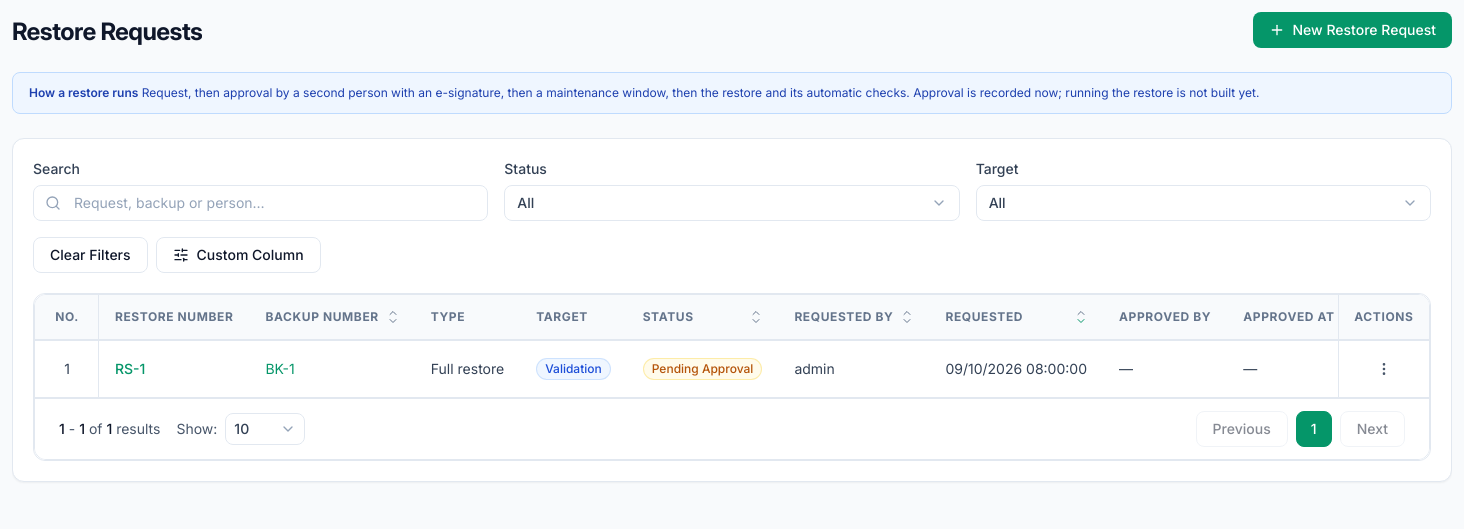
Test: Restore requests list actions › does not offer Approve Request on the person's own request
Click the button named "More actions" at (1383, 368), box [1367,352,1399,384]
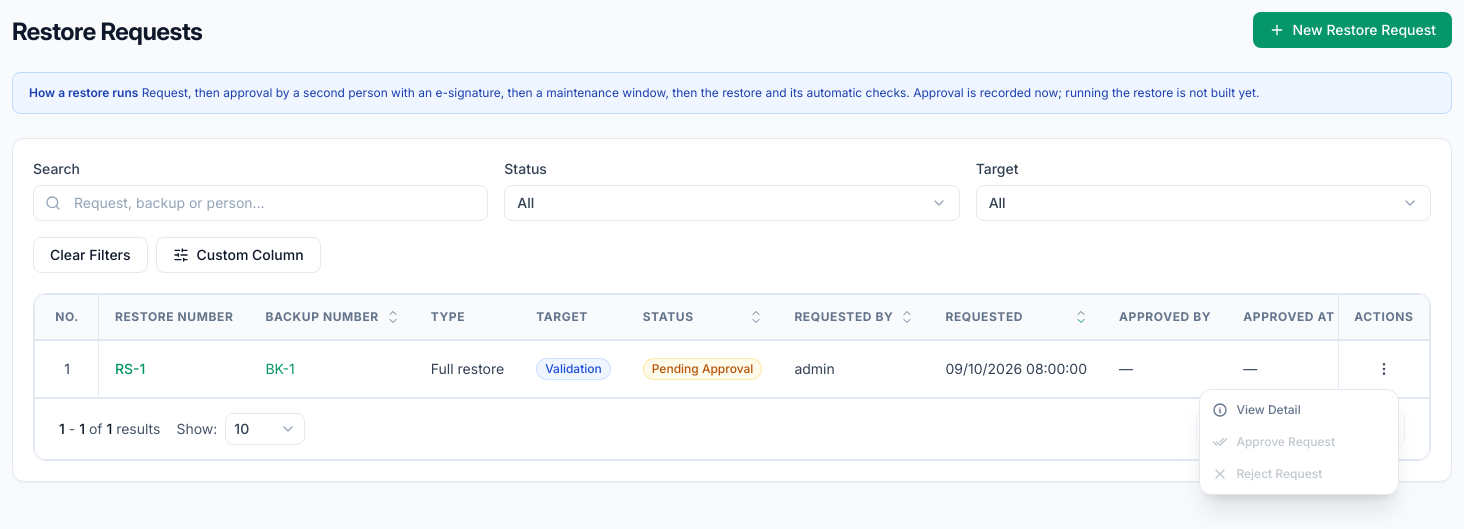
Expected: the button "View Detail" is shown, [1200,394,1398,426]
Expected: the button "Approve Request" is disabled, [1200,426,1398,458]
